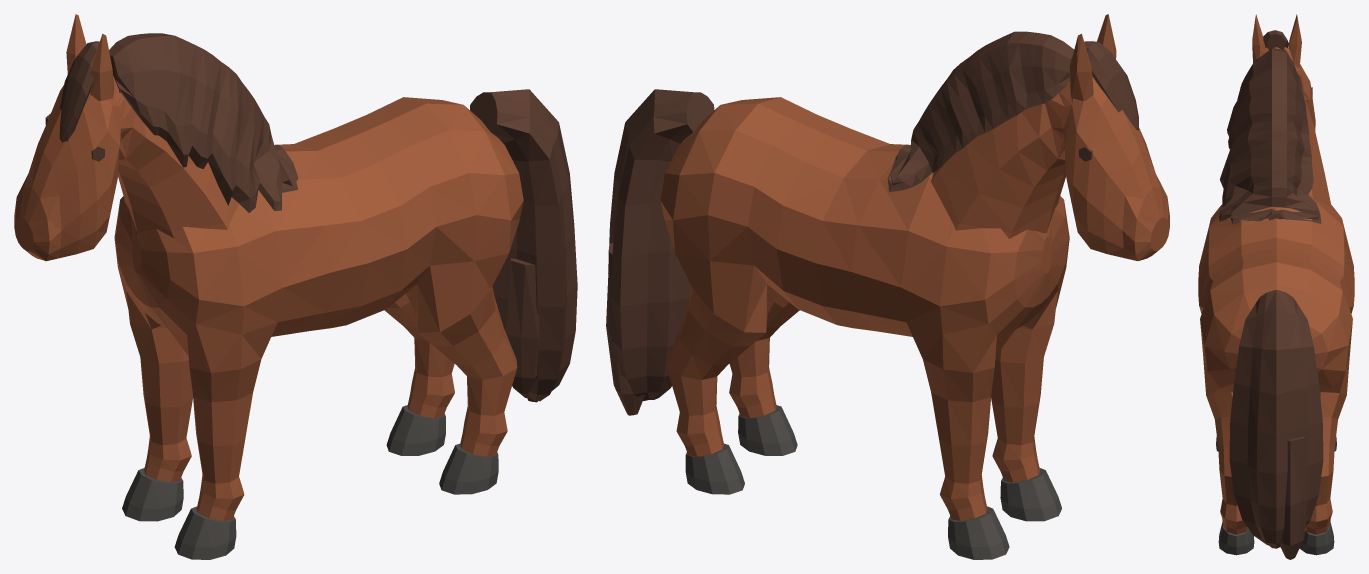
File: KANJI_33_UMA.fbx
The picture shows the model from 3 angles, left to right: view 1: azimuth 30°, elevation 25°; view 2: azimuth 150°, elevation 25°; view 3: azimuth 270°, elevation 25°; orthographic projection. The views are drawn at different scales.
Parts seen in each view (by area): view 1: SM_KANJI_33_Uma; view 2: SM_KANJI_33_Uma; view 3: SM_KANJI_33_Uma.
Boxes of the visible parts, <box> form: SM_KANJI_33_Uma: <box>14,14,577,559</box>; SM_KANJI_33_Uma: <box>606,14,1169,559</box>; SM_KANJI_33_Uma: <box>1198,14,1354,559</box>.
Bounding box in the file's own units: 0.2787 × 0.2542 × 0.09.
